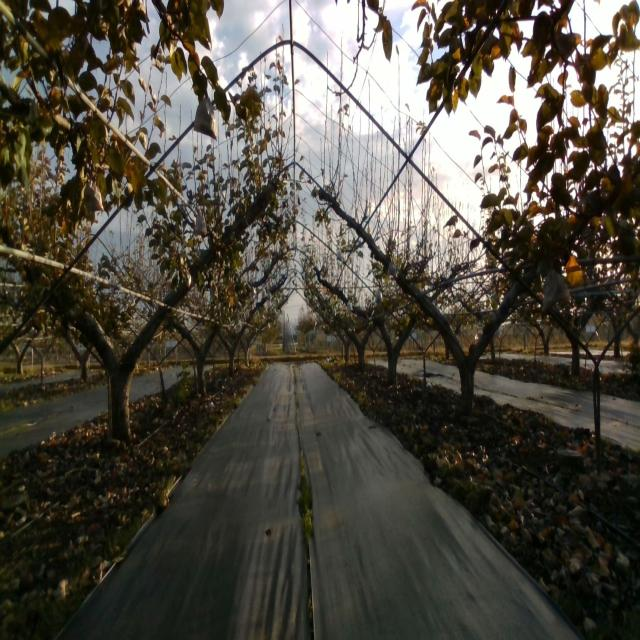pearbags: (541, 269, 570, 312), (193, 96, 217, 141), (83, 179, 104, 213), (195, 208, 208, 236), (387, 256, 398, 278)
